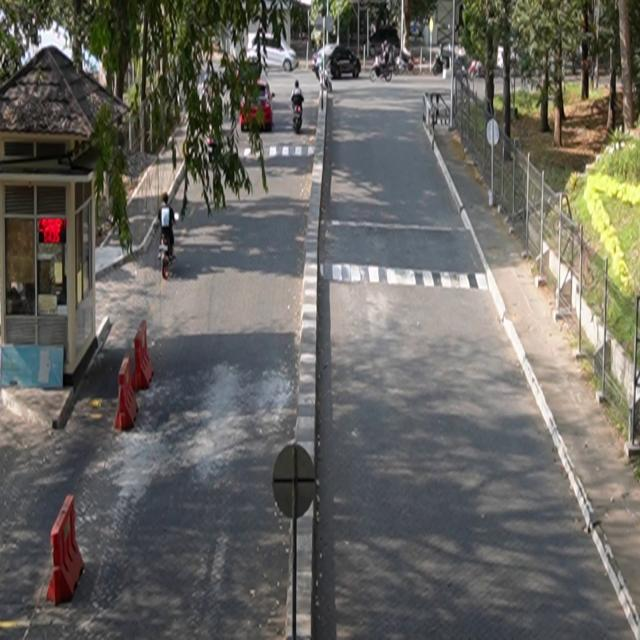car: (247, 34, 300, 73), (240, 80, 276, 132)
